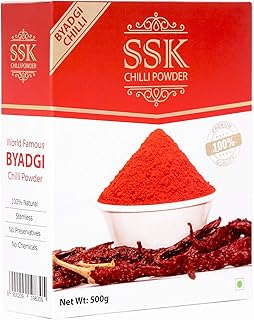Chilli Powder: (1, 2, 254, 316)
